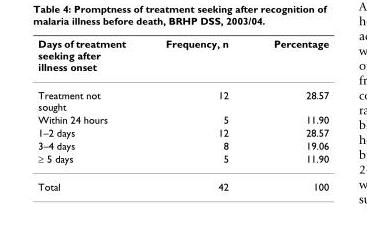table: (37, 37, 328, 192)
table column: (37, 37, 145, 192), (145, 37, 250, 192), (250, 37, 328, 192)
table column header: (37, 37, 328, 80)
table row: (37, 37, 328, 80), (37, 80, 328, 112), (37, 151, 328, 172), (37, 172, 328, 192), (37, 112, 328, 125), (37, 125, 328, 138), (37, 138, 328, 151)
